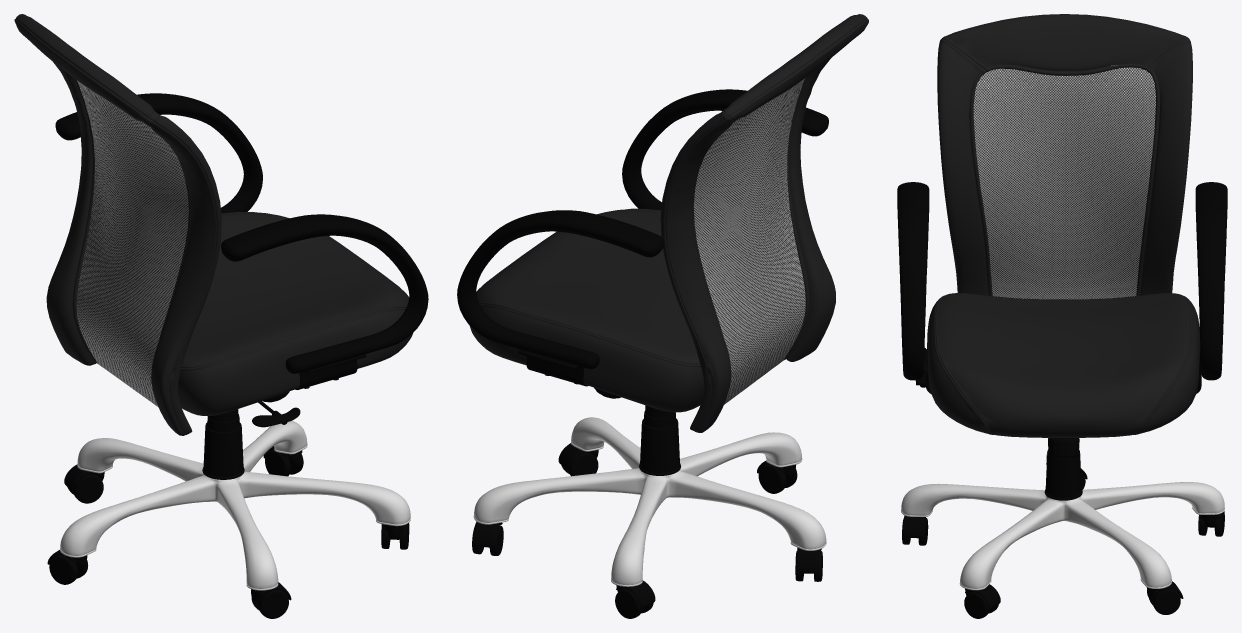
File: chair-transformed.glb
3 views of the same model, side by side, from view 1: azimuth 30°, elevation 25°; view 2: azimuth 150°, elevation 25°; view 3: azimuth 270°, elevation 25° (orthographic). The views are drawn at different scales.
Visible parts, largest first — view 1: Box01_Lether_0, Box02_Chairback_0, Cylinder01_Matteplastic_0, Rectangle02_Chrome_0, Cylinder01_BlackMetal_0; view 2: Box01_Lether_0, Box02_Chairback_0, Cylinder01_Matteplastic_0, Rectangle02_Chrome_0, Cylinder01_BlackMetal_0; view 3: Box01_Lether_0, Box02_Chairback_0, Cylinder01_Matteplastic_0, Rectangle02_Chrome_0.
Part boxes in pixels (<box>): Box01_Lether_0: <box>14,14,412,435</box>; Box02_Chairback_0: <box>76,80,188,407</box>; Cylinder01_Matteplastic_0: <box>47,93,428,618</box>; Rectangle02_Chrome_0: <box>60,421,410,590</box>; Cylinder01_BlackMetal_0: <box>258,354,366,413</box>; Box01_Lether_0: <box>470,14,868,432</box>; Box02_Chairback_0: <box>693,78,805,404</box>; Cylinder01_Matteplastic_0: <box>457,89,828,618</box>; Rectangle02_Chrome_0: <box>473,417,826,586</box>; Cylinder01_BlackMetal_0: <box>518,349,588,386</box>; Box01_Lether_0: <box>927,14,1200,437</box>; Box02_Chairback_0: <box>973,65,1155,299</box>; Cylinder01_Matteplastic_0: <box>897,182,1227,618</box>; Rectangle02_Chrome_0: <box>901,452,1224,590</box>.
Bounding box in the file's own units: 65.25 × 102 × 63.69.
5 materials, 1 textured.
